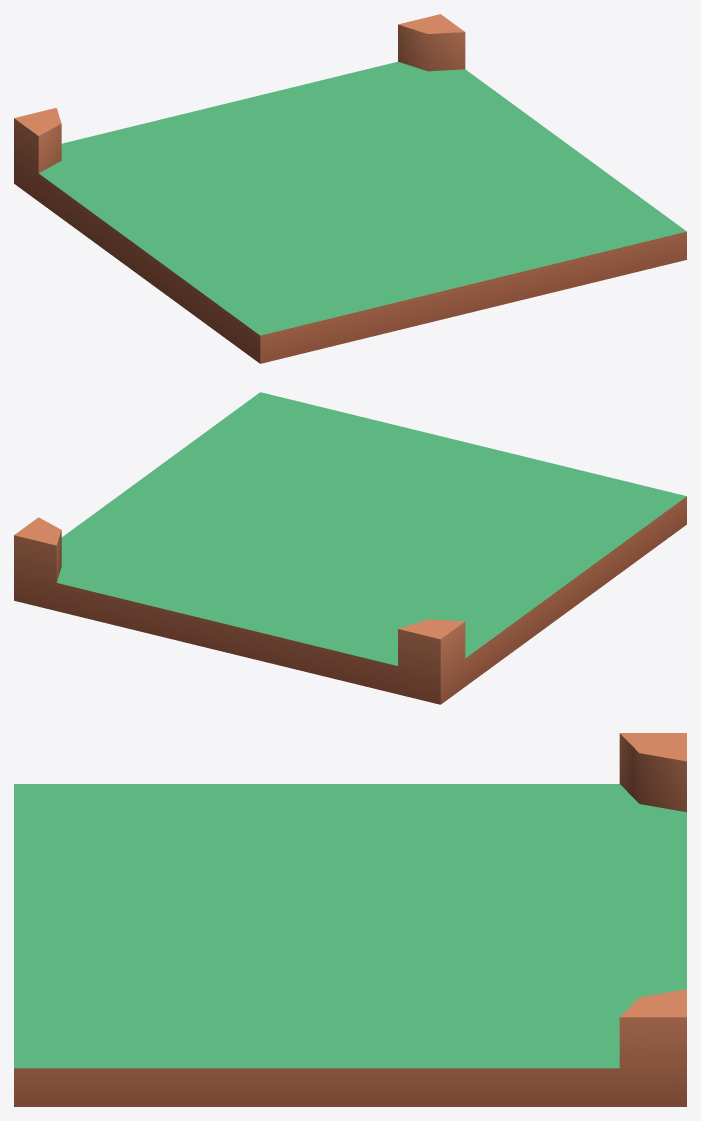
The model's file is walls-to-open.glb.
3 views of the same model, one above another, from view 1: azimuth 30°, elevation 25°; view 2: azimuth 150°, elevation 25°; view 3: azimuth 270°, elevation 25° (orthographic). The views are drawn at different scales.
Visible parts, largest first — view 1: walls-to-open; view 2: walls-to-open; view 3: walls-to-open.
Part boxes in pixels (left/top/right/bottom): walls-to-open: left=14, top=14, right=686, bottom=363; walls-to-open: left=14, top=392, right=686, bottom=704; walls-to-open: left=14, top=733, right=686, bottom=1106.
Bounding box in the file's own units: 0.9999 × 0.1467 × 0.9999.
1 material, 1 textured.
